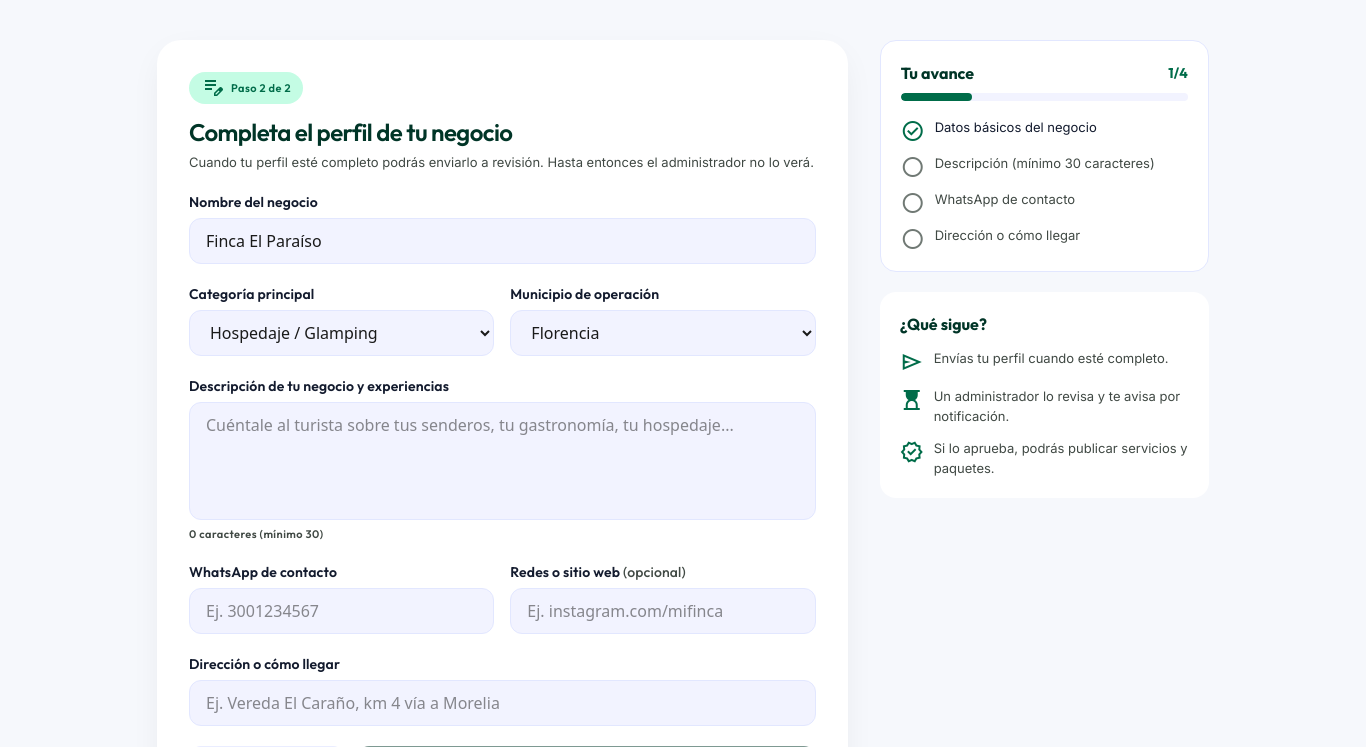
CompletarPerfil › guardar borrador actualiza el perfil sin enviarlo a revisión
In the text box with placeholder "Cuéntale al turista": (502, 461) [189,402,816,520], type "Finca de hospedaje rodeada de naturaleza, con cabañas y senderos."
(page scrolled)
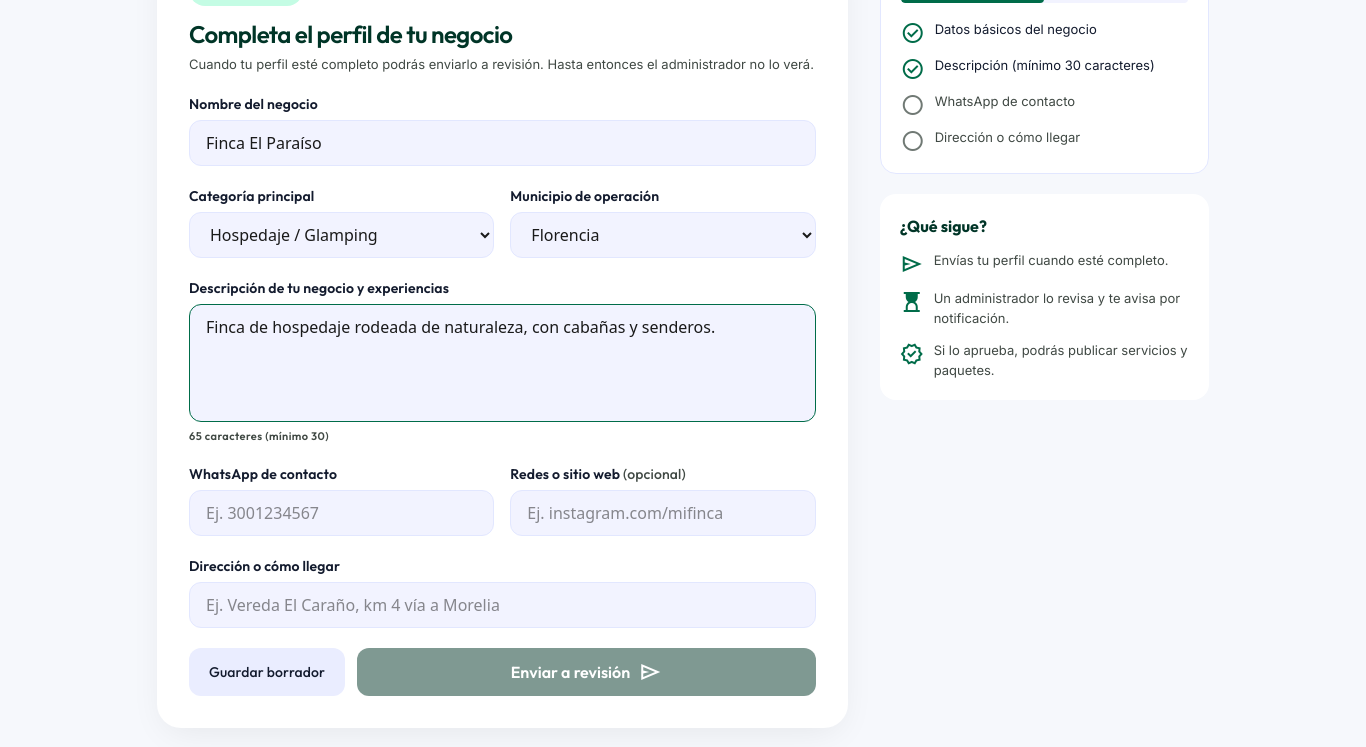
Click the button "Guardar borrador": (267, 672) [189,648,345,696]
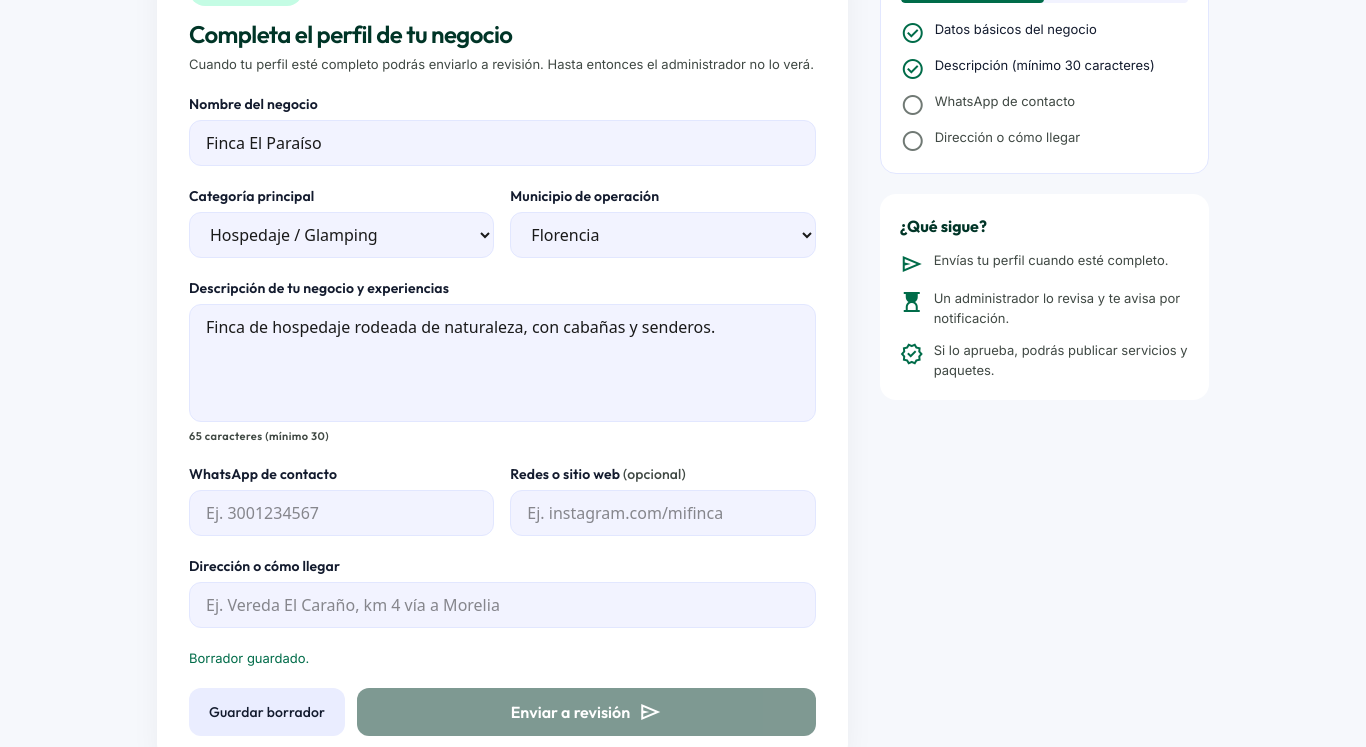
Check: the text "Borrador guardado." is shown, box [189,650,309,666]
